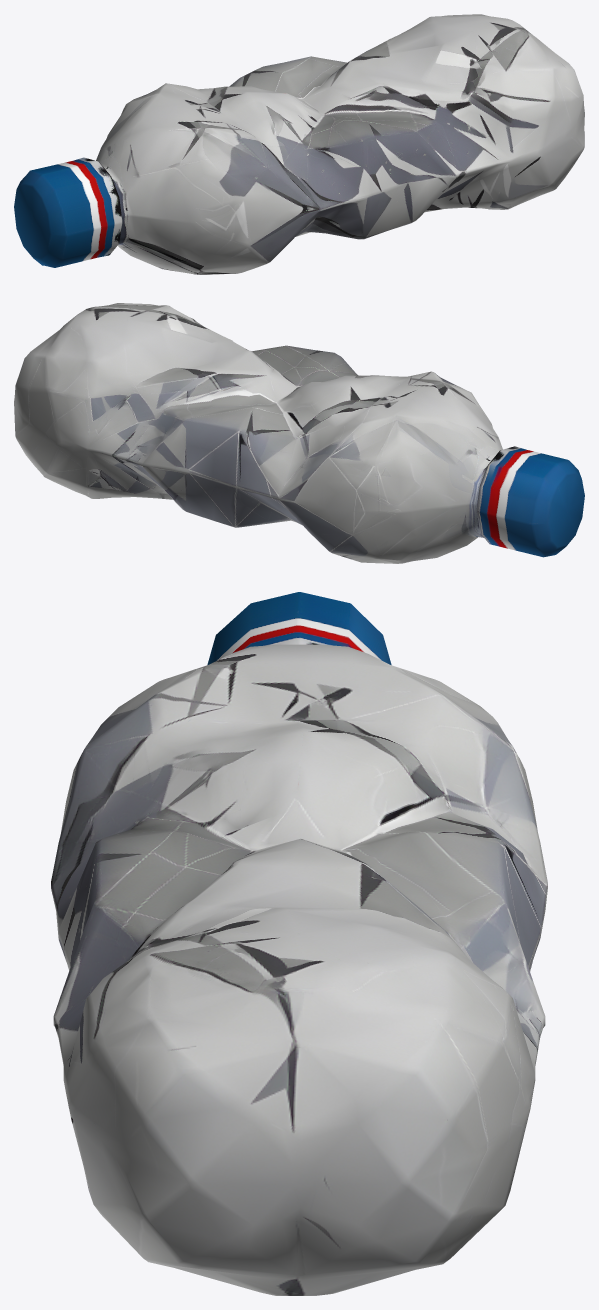
File: trash_small_8.glb
The picture shows the model from 3 angles, top to bottom: view 1: azimuth 30°, elevation 25°; view 2: azimuth 150°, elevation 25°; view 3: azimuth 270°, elevation 25°; orthographic projection. The views are drawn at different scales.
Bounding box in the file's own units: 1.91 × 0.5519 × 0.7789.
Materials: 1 (1 with a texture image).
